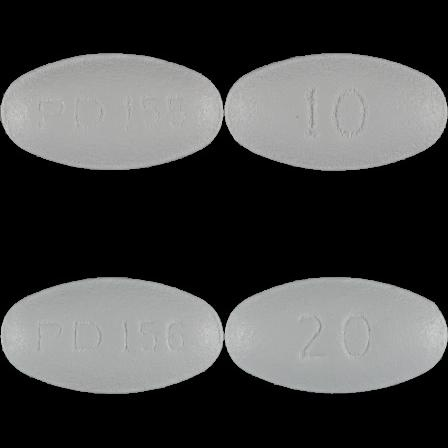0071-0155: (0, 0, 224, 224)
